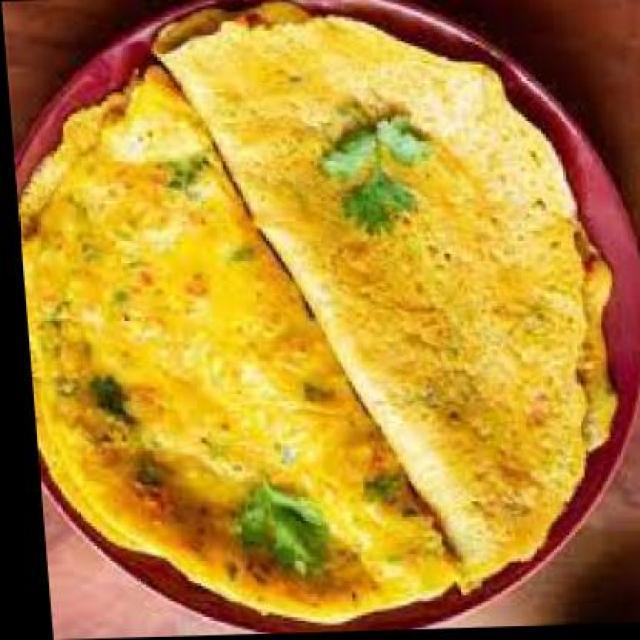besan_cheela: (147, 0, 624, 603), (4, 62, 447, 632)
